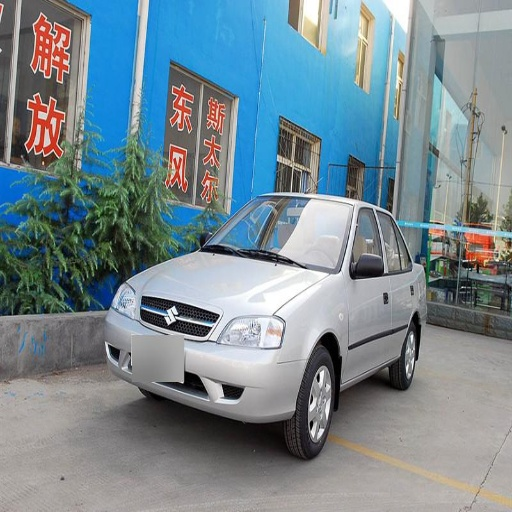front_bumper: (105, 294, 308, 422)
front_glass: (202, 200, 351, 271)
front_left_door: (346, 209, 390, 379)
